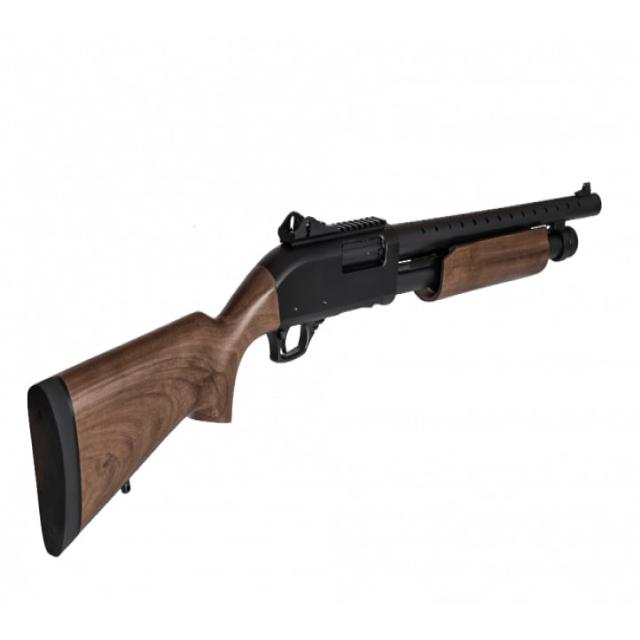ShotGun: (27, 184, 603, 559)
